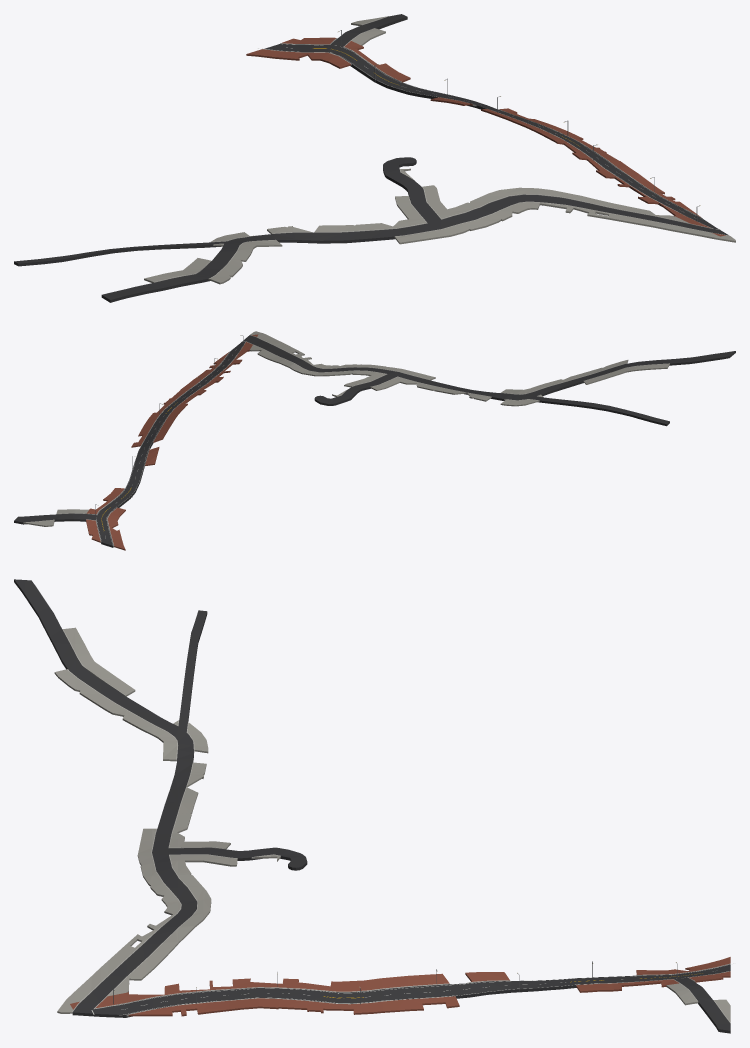
3 renders of one model, top to bottom at view 1: azimuth 30°, elevation 25°; view 2: azimuth 150°, elevation 25°; view 3: azimuth 270°, elevation 25°, orthographic. The views are drawn at different scales.
Bounding box in the file's own units: 294 × 59.52 × 282.
